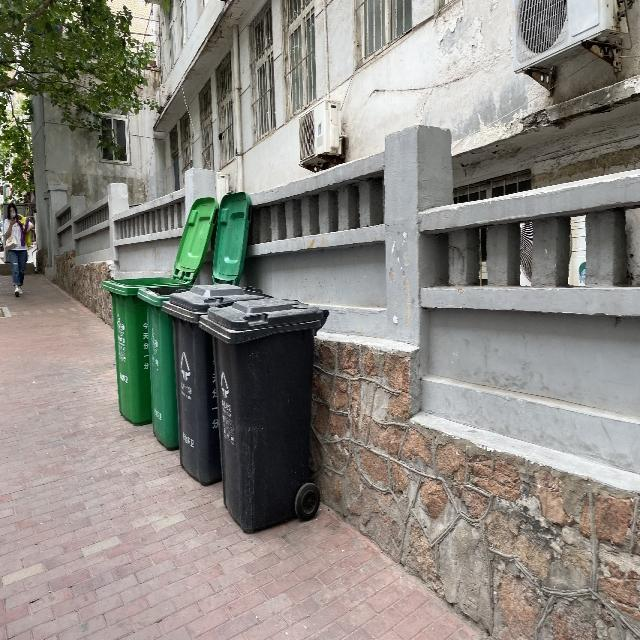garbage_bin: (200, 297, 330, 535), (161, 284, 272, 487), (102, 274, 188, 423), (137, 284, 180, 450)
